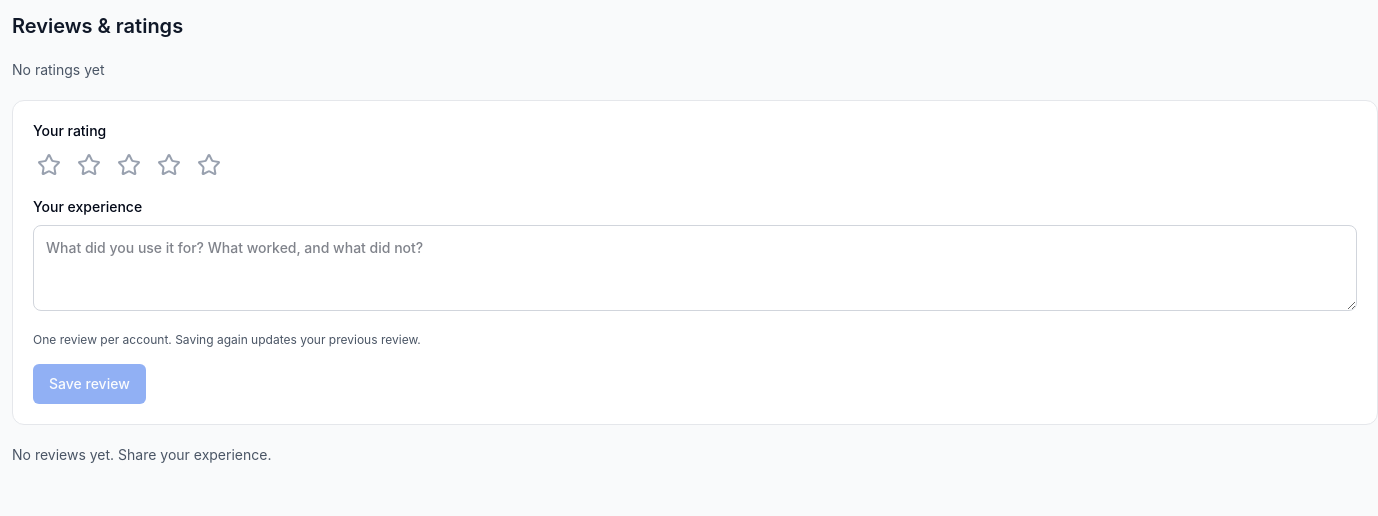
it: preserves review input and displays a server rejection
Expected: the text "No ratings yet" is shown, [12,61,104,78]
Click the button named "3 stars" at (129, 165), box [113,149,145,181]
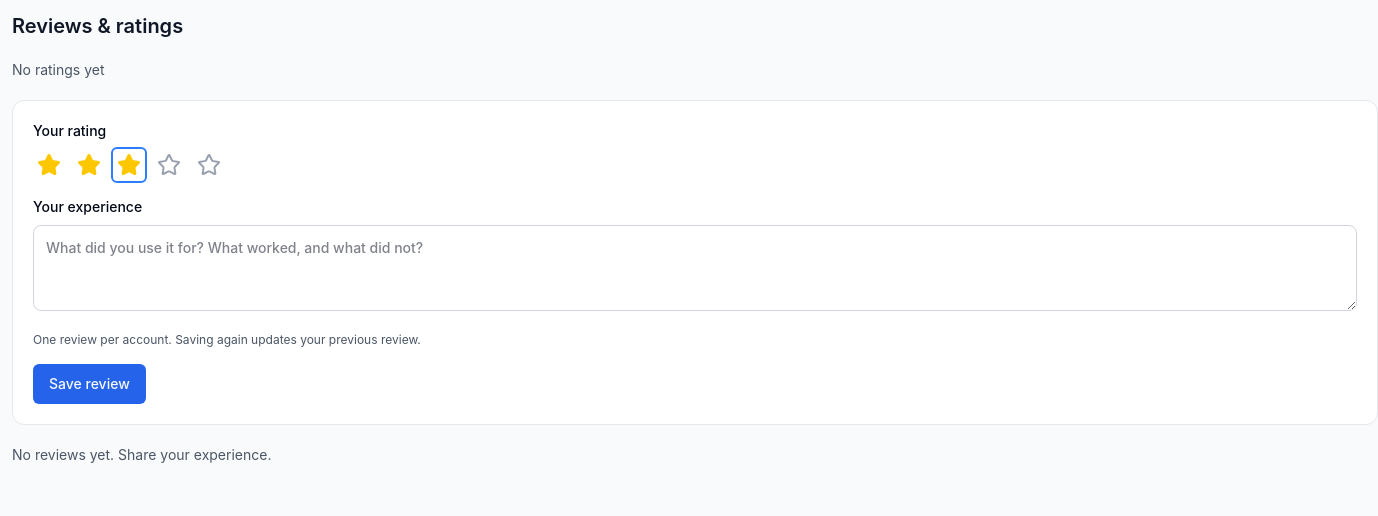
Type "My experience" into the text box labelled "Your experience" at (695, 268), box [33,225,1357,311]
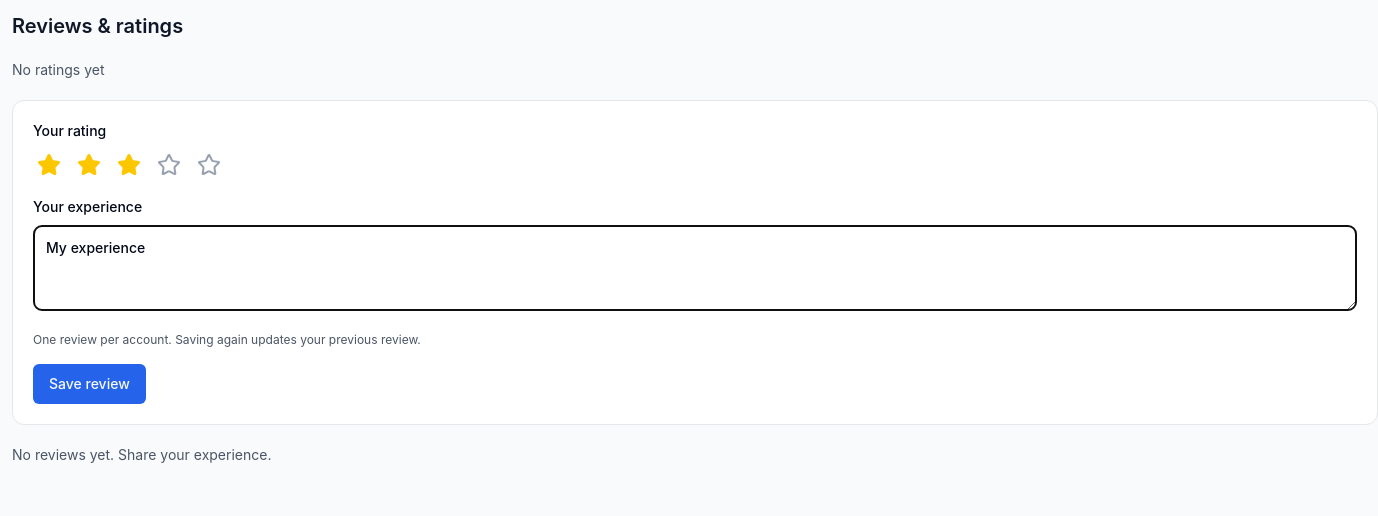
Click the button "Save review" at (89, 384), box [33,364,146,404]
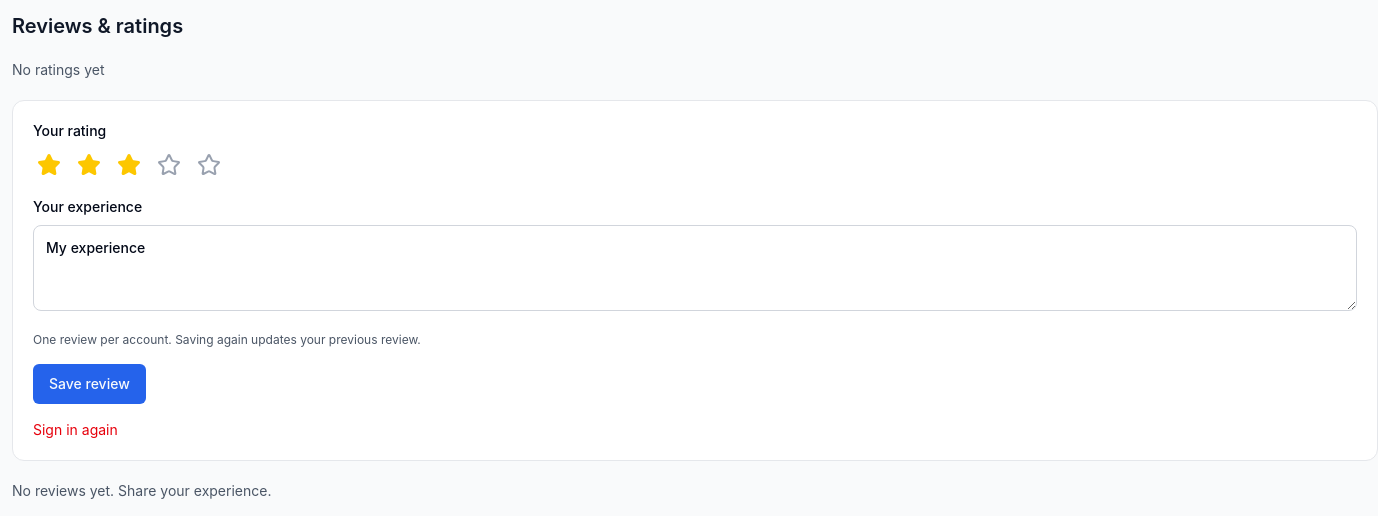
Expected: the message reads "Sign in again", [33,421,118,438]
